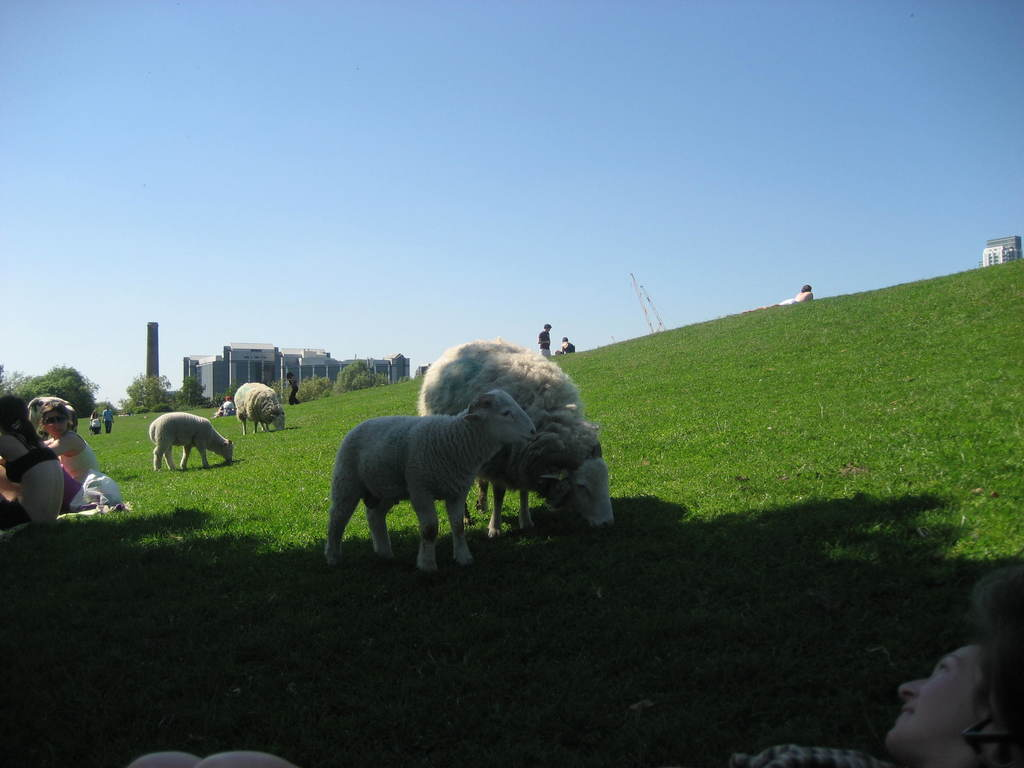sheep: (323, 394, 539, 571), (152, 411, 233, 469), (233, 385, 285, 433)
